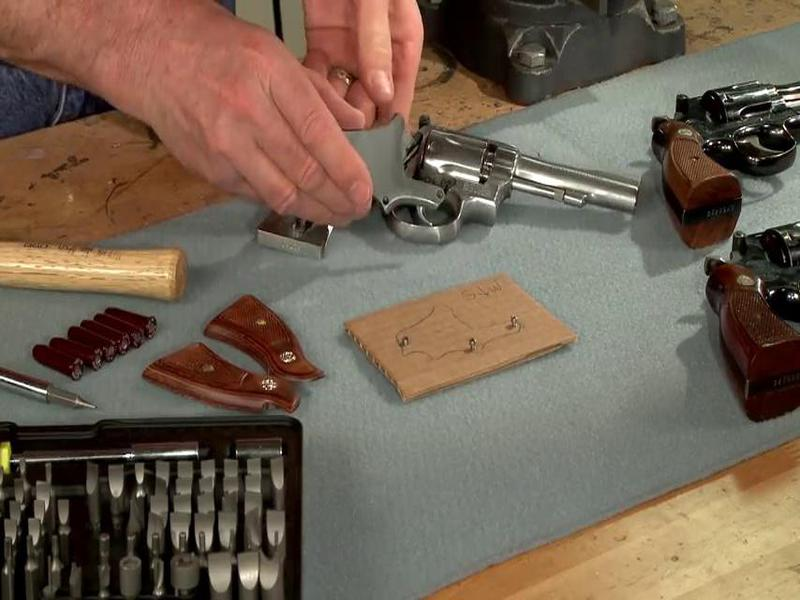Revolver: (235, 59, 671, 294)
